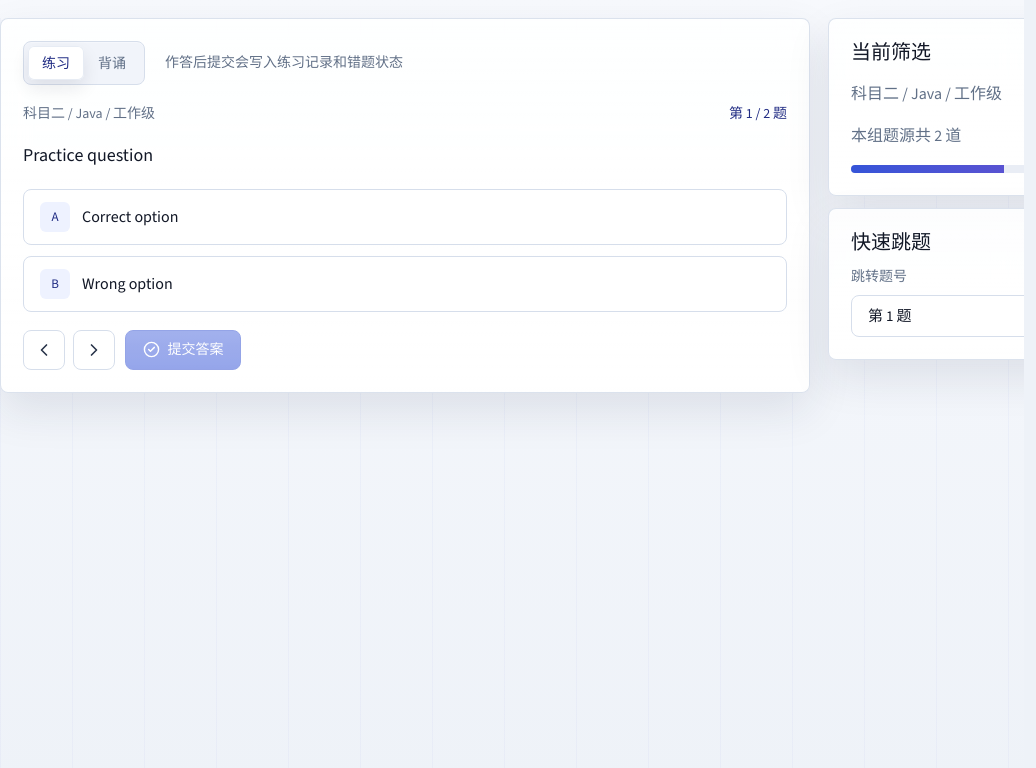
Scenario: PracticePage › preserves each question's selected answer and last submission when navigating
Expected: the text "Practice question" is shown, [23,143,153,167]
Click the button "B Wrong option". click: click(127, 283)
box: [23,256,787,312]
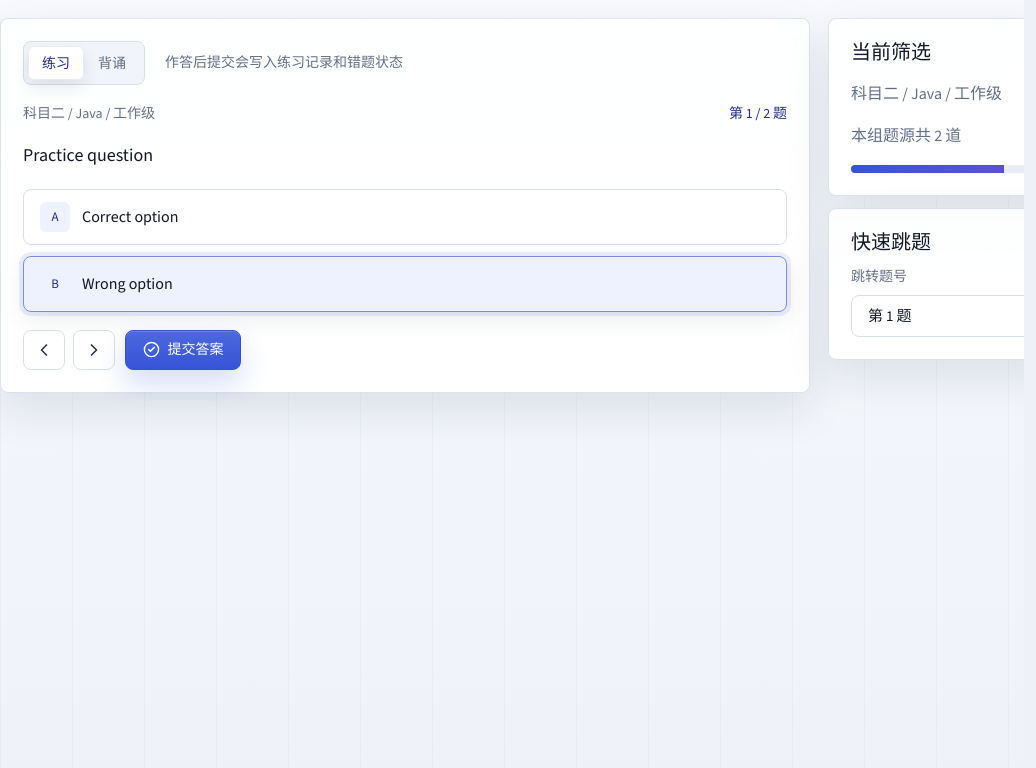
Click the button "提交答案". click: click(183, 350)
box: [125,330,241,370]
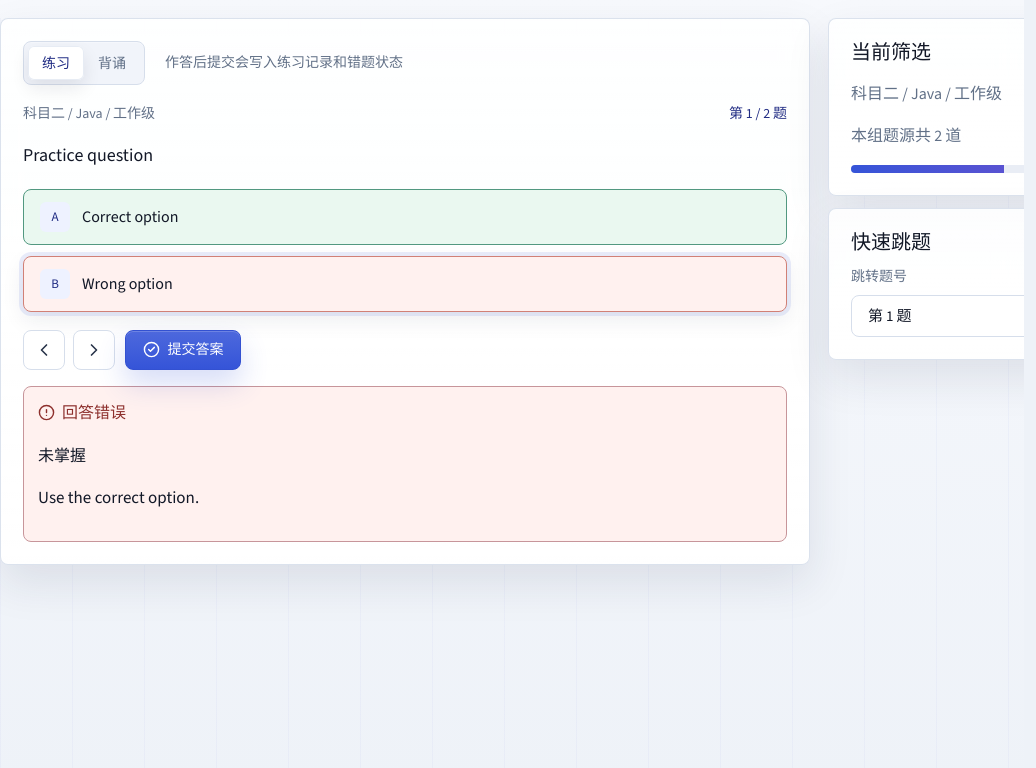
Expected: the message shows "回答错误", [62,402,126,423]
Click the button named "下一题". click: click(94, 350)
box: [73,330,115,370]
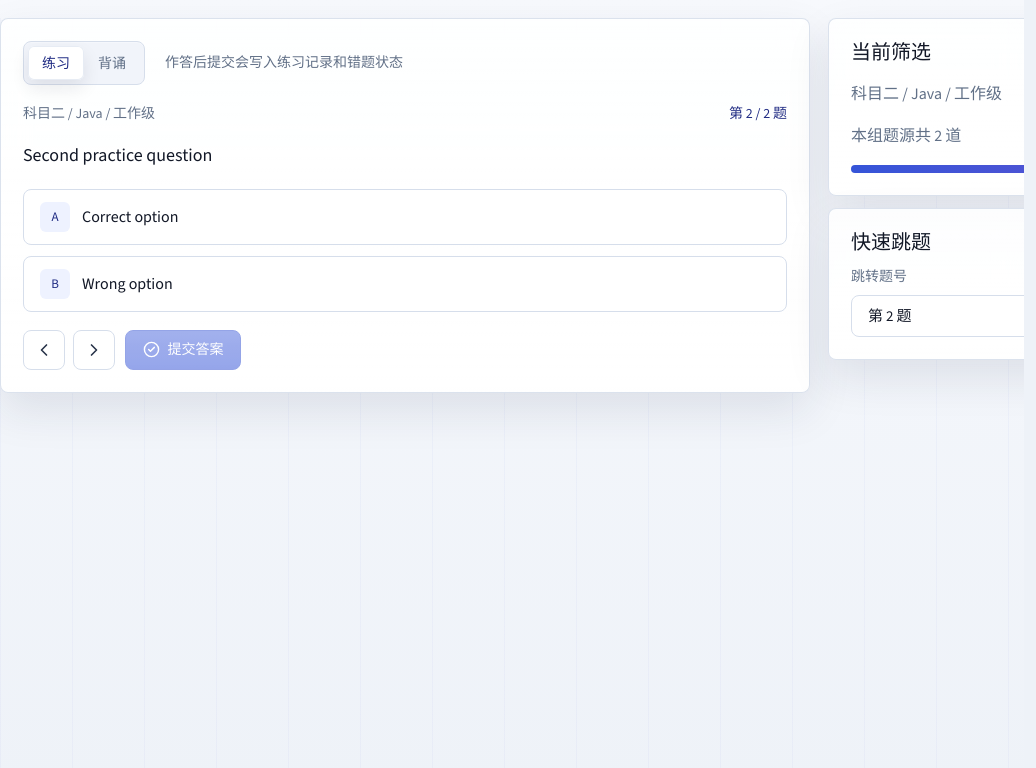
Expected: the text "Second practice question" is shown, [23,143,212,167]
Click the button named "上一题". click: click(44, 350)
box: [23,330,65,370]
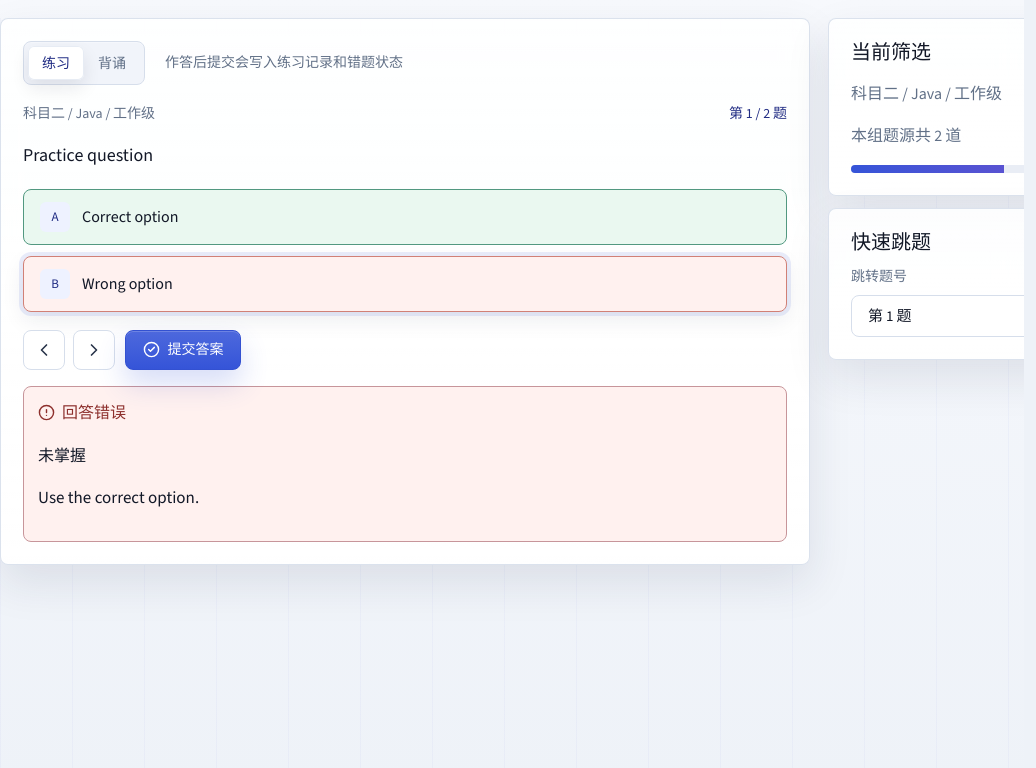
Expected: the text "Practice question" is shown, [23,143,153,167]
Expected: the message shows "回答错误", [62,402,126,423]
